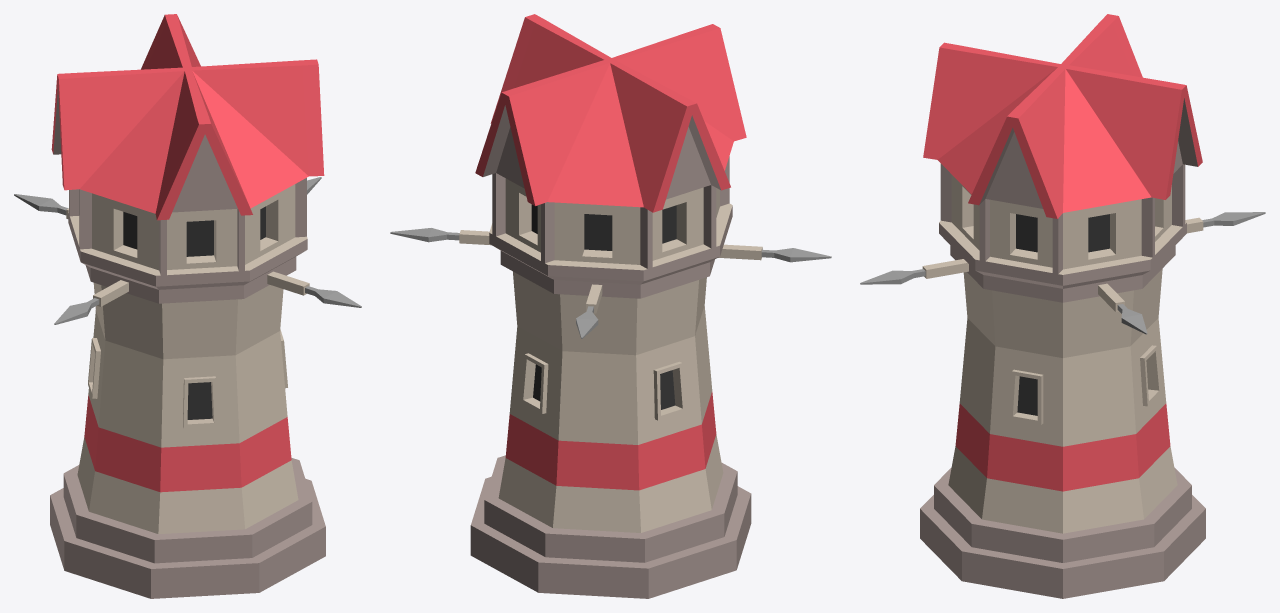
File: Archer Tower.fbx
3 renders of one model, left to right at view 1: azimuth 30°, elevation 25°; view 2: azimuth 150°, elevation 25°; view 3: azimuth 270°, elevation 25°, orthographic.
Visible parts, largest first — view 1: Cylinder.002; view 2: Cylinder.002; view 3: Cylinder.002.
Boxes of the visible parts, <box> form: Cylinder.002: <box>14,14,361,598</box>; Cylinder.002: <box>390,14,831,598</box>; Cylinder.002: <box>860,14,1265,598</box>.
Size of the model in its own units: 350 by 450 by 350.
